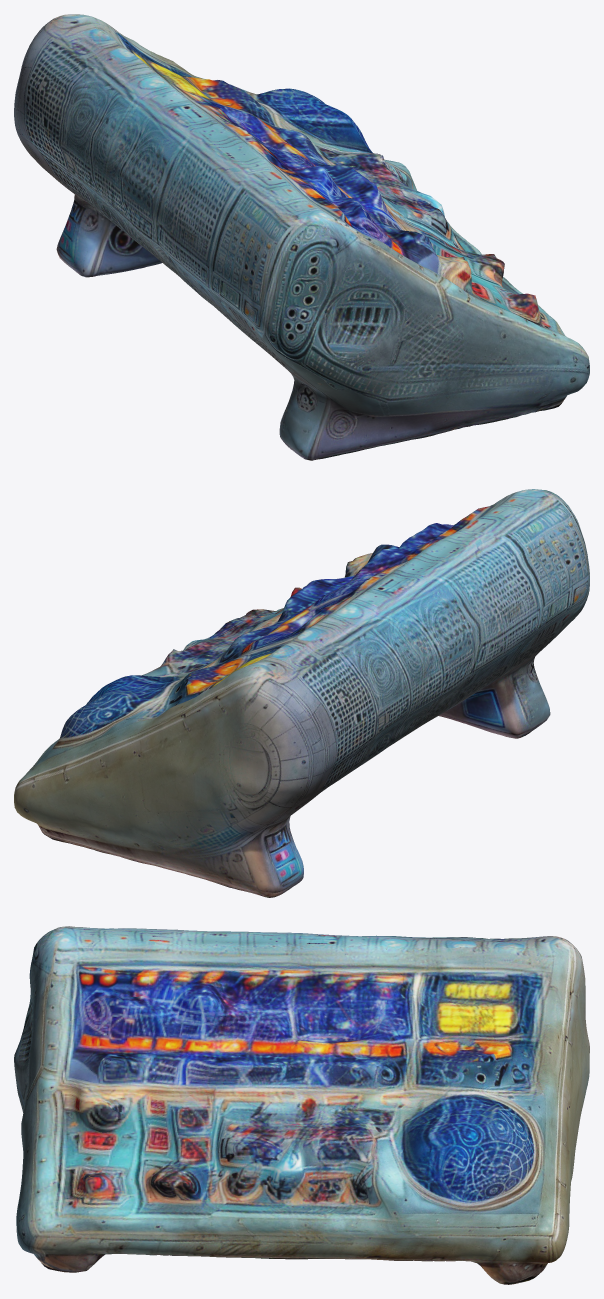
Rendered from A_1970s_sci_fi_contro_0907202706_refine.glb.
The picture shows the model from 3 angles, top to bottom: view 1: azimuth 30°, elevation 25°; view 2: azimuth 150°, elevation 25°; view 3: azimuth 270°, elevation 25°; orthographic projection. The views are drawn at different scales.
Size of the model in its own units: 0.775 by 0.5361 by 1.2.
Materials: 1 (1 with a texture image).
